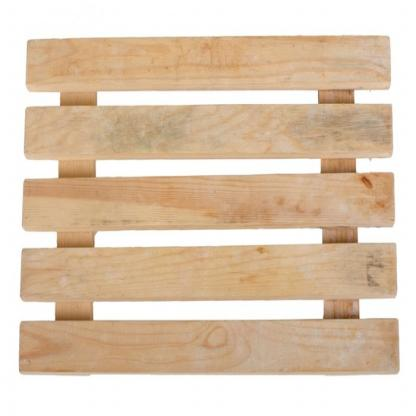BoxFace: (19, 34, 400, 377)
